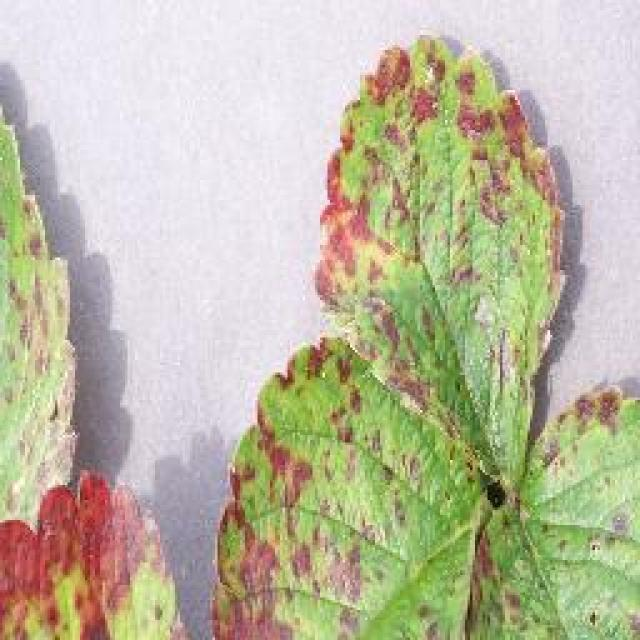Strawberry leaf scorch: (278, 62, 595, 638)
